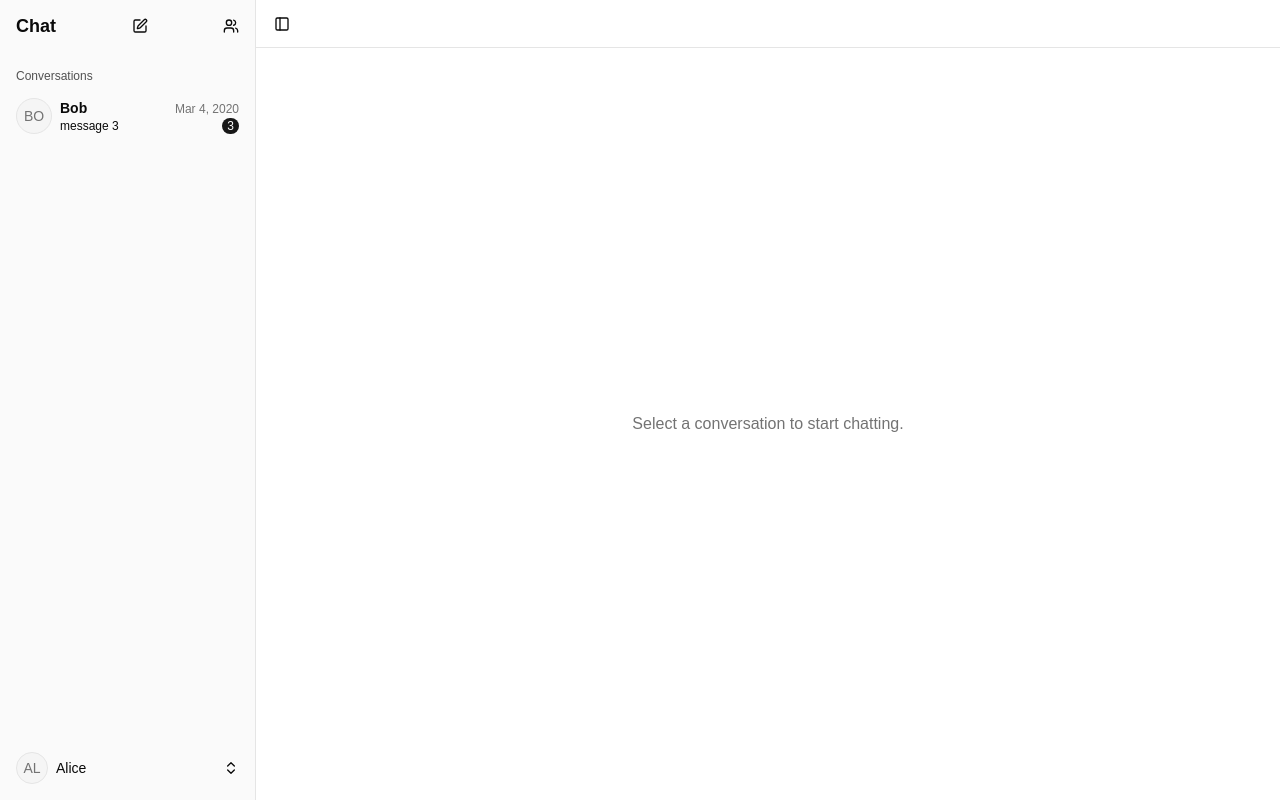
Test: Marking a Conversation as read › sends the highest sequence on screen once the open Conversation is at its latest Message in a visible tab
Click the button "BO Bob Mar 4, 2020 message 3 3" at (128, 116), box left=8, top=92, right=247, bottom=140
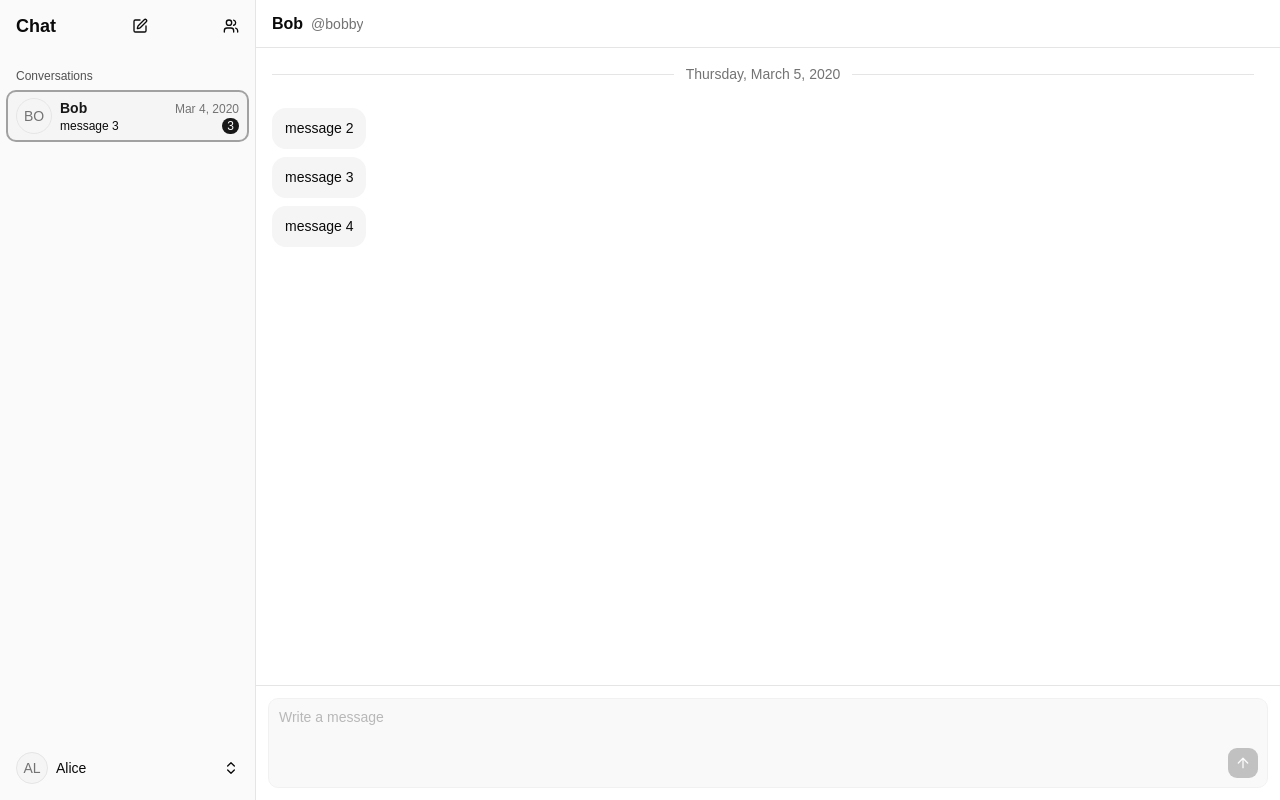
Check: the button "message 3" is shown, box left=272, top=157, right=366, bottom=198
